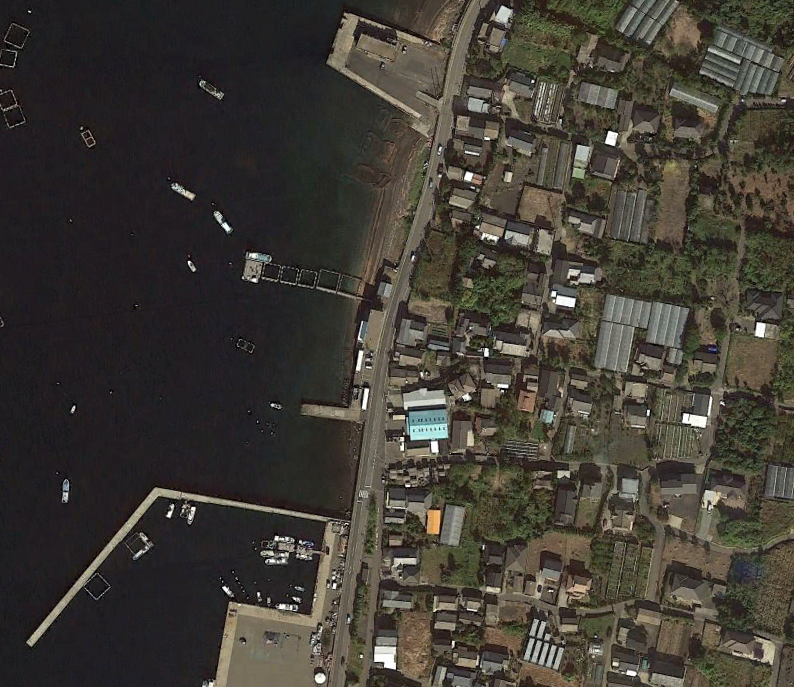house: (702, 28, 779, 97), (591, 292, 642, 375), (596, 176, 652, 241), (622, 1, 687, 55), (526, 128, 577, 191), (645, 286, 690, 356), (734, 275, 788, 332), (668, 78, 731, 126), (607, 275, 651, 340), (524, 73, 575, 128), (709, 619, 762, 663), (557, 200, 607, 243), (488, 323, 538, 365), (569, 73, 620, 114), (398, 407, 451, 446), (575, 141, 620, 180), (665, 565, 710, 604), (437, 501, 472, 551), (519, 267, 556, 311), (443, 131, 495, 161), (763, 454, 794, 502), (498, 216, 536, 255), (398, 385, 448, 414), (502, 122, 541, 159), (446, 182, 487, 217), (451, 109, 504, 136), (683, 383, 716, 426), (590, 44, 629, 77), (475, 211, 511, 246), (397, 312, 431, 349), (673, 465, 705, 503), (508, 70, 544, 101), (367, 633, 399, 667), (461, 89, 499, 117), (463, 76, 505, 101), (537, 363, 560, 406), (446, 161, 483, 187), (378, 482, 409, 513), (751, 316, 785, 344), (382, 589, 419, 614), (553, 487, 576, 527), (482, 641, 509, 675), (613, 505, 640, 538), (380, 523, 407, 555), (451, 416, 474, 453), (568, 394, 601, 419), (453, 366, 478, 399), (408, 480, 433, 512), (482, 365, 515, 389), (614, 474, 643, 501), (658, 475, 684, 502), (622, 402, 648, 429), (562, 570, 591, 594), (485, 569, 511, 595), (422, 506, 443, 538), (457, 646, 482, 672), (373, 276, 396, 302), (397, 346, 421, 370), (512, 386, 534, 412), (570, 366, 591, 392), (538, 567, 568, 584), (434, 609, 458, 630), (481, 387, 502, 411), (492, 8, 514, 29), (435, 591, 457, 612), (482, 548, 506, 565)
ship: (166, 179, 197, 204), (199, 76, 226, 104), (206, 209, 234, 234), (57, 477, 74, 509), (273, 601, 302, 616), (182, 251, 199, 275), (267, 533, 296, 545), (183, 502, 197, 524), (264, 557, 291, 568), (292, 551, 314, 562), (219, 583, 234, 598), (162, 504, 173, 523), (295, 538, 314, 549), (266, 401, 284, 412), (177, 504, 188, 517)
square: (114, 528, 151, 568), (77, 570, 114, 607), (1, 20, 36, 51), (312, 261, 336, 297), (336, 266, 360, 302), (1, 102, 32, 129), (277, 260, 301, 289), (294, 263, 317, 290), (256, 258, 278, 285), (1, 90, 26, 110), (243, 256, 262, 282), (1, 46, 22, 69)
